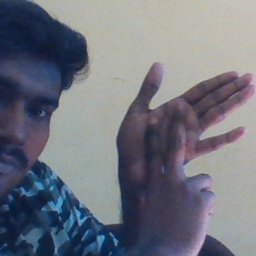N: (112, 59, 256, 233)
